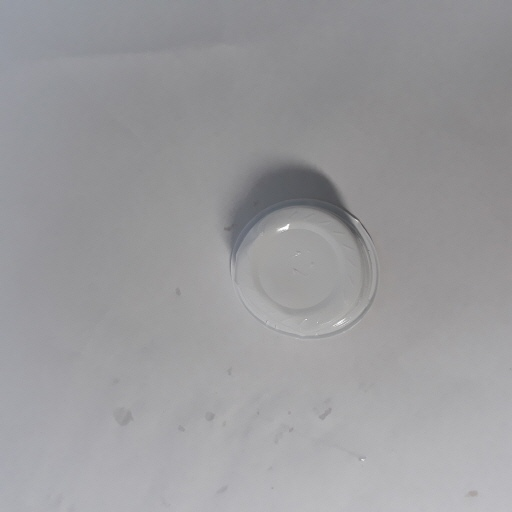Plastic_5: (229, 200, 380, 341)
